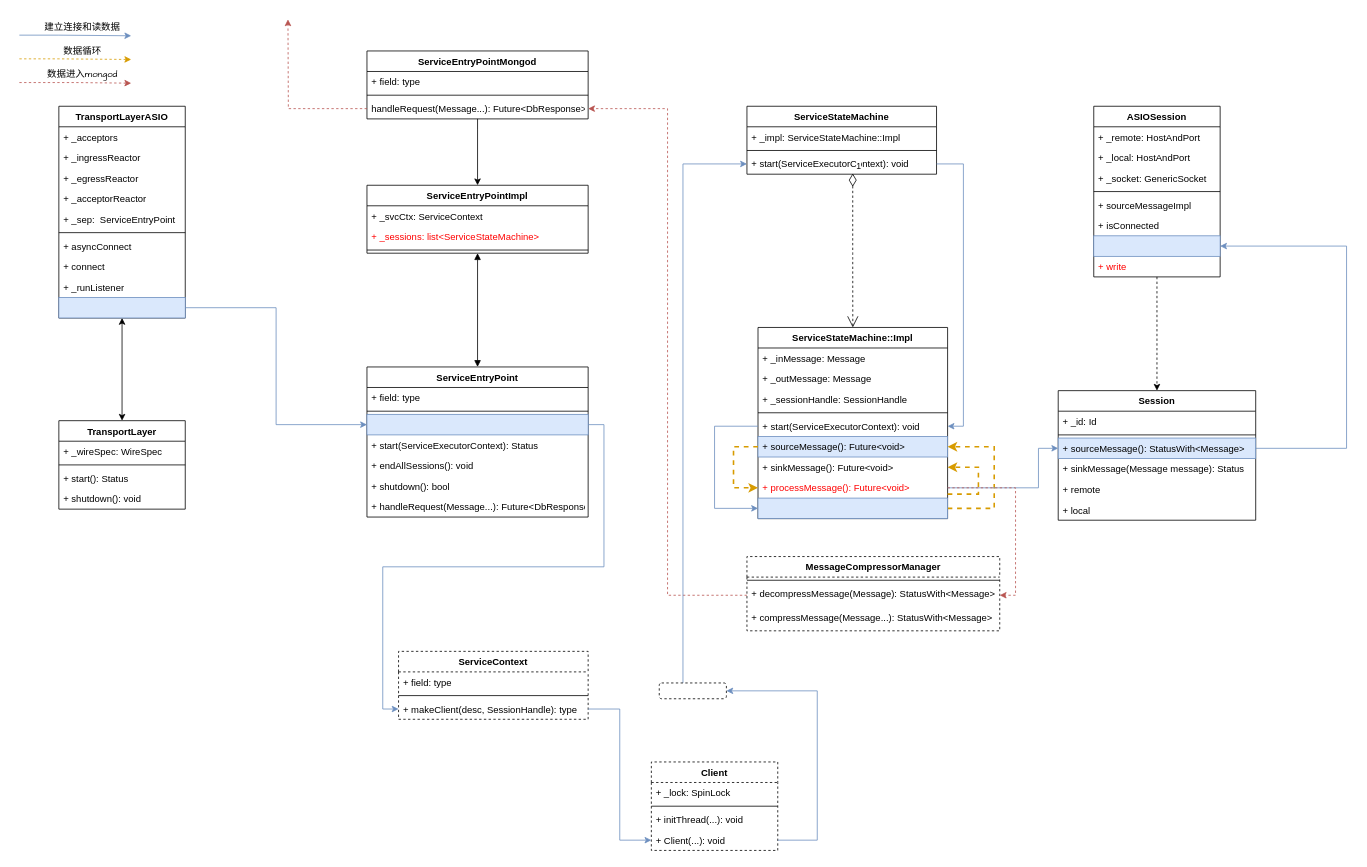
This 1367x867 diagram has some shape labels left out. Here are the shapes that lost their labels. From the top down, the centre of each, then its label:
At pixel 1156 245: "+ read".
At pixel 121 307: "+ _acceptConnection".
At pixel 477 424: "+ startSession(SessionHandle): void".
At pixel 852 508: "+ runOnce(): void".
At pixel 692 690: "构造状态机".
